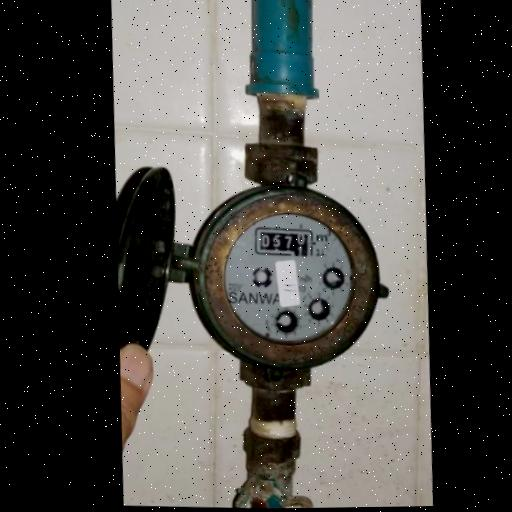0: (292, 233, 308, 256), (258, 232, 272, 250)
5: (268, 232, 284, 250)
7: (281, 232, 295, 251)
border_water_meter_number: (250, 225, 314, 258)
